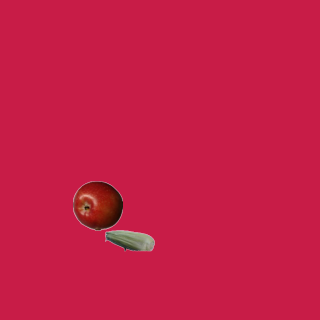Apple Braeburn: (72, 180, 122, 230)
Corn Husk: (104, 215, 154, 265)
